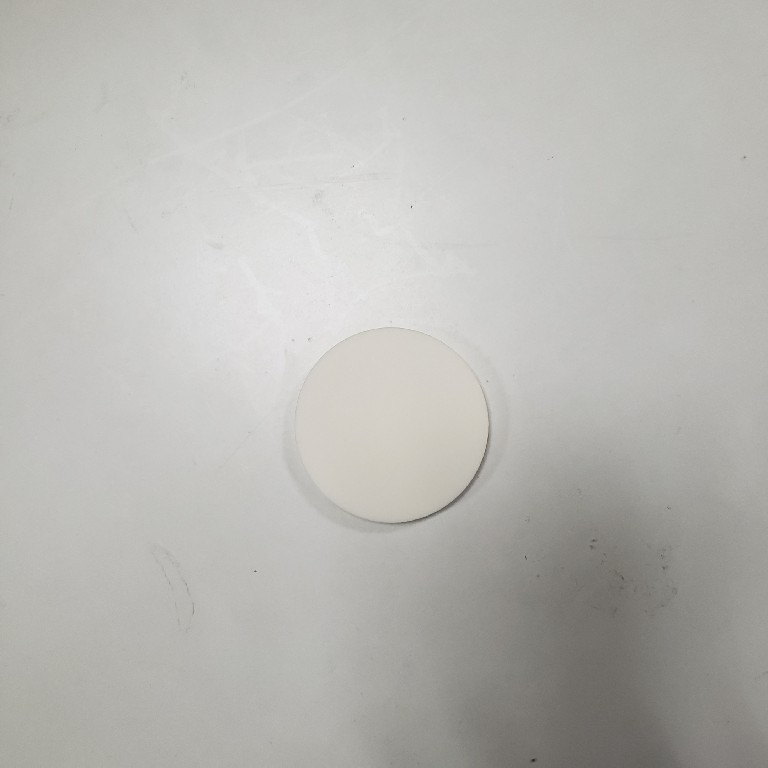ceramics: (282, 320, 498, 535)
